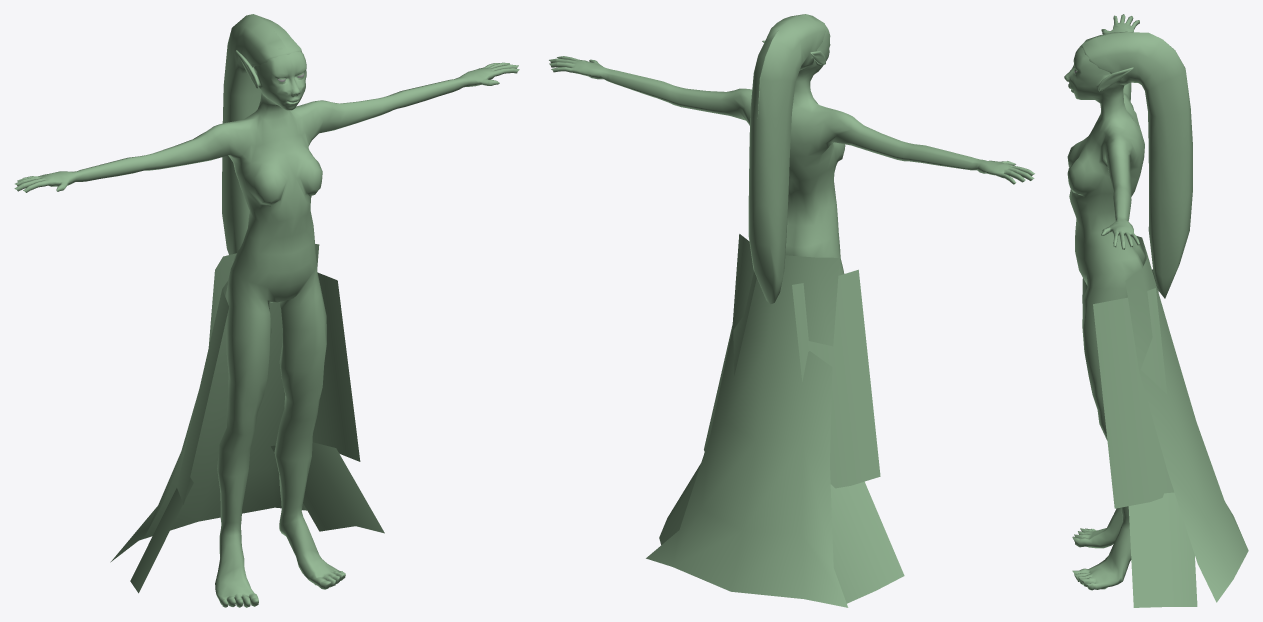
File: shaman_export.fbx
3 renders of one model, left to right at view 1: azimuth 30°, elevation 25°; view 2: azimuth 150°, elevation 25°; view 3: azimuth 270°, elevation 25°, orthographic. The views are drawn at different scales.
Parts seen in each view (by area): view 1: shaman:polySurface21, shaman:polySurface18, shaman:polySurface17, shaman:polySurface16, shaman:polySurface19, shaman:polySurface20; view 2: shaman:polySurface18, shaman:polySurface21, shaman:polySurface19, shaman:polySurface20, shaman:polySurface17, shaman:polySurface16; view 3: shaman:polySurface21, shaman:polySurface18, shaman:polySurface17, shaman:polySurface16.
Part boxes in pixels (bbox=[...]): shaman:polySurface21: bbox=[14, 14, 519, 607]; shaman:polySurface18: bbox=[110, 244, 319, 562]; shaman:polySurface17: bbox=[283, 272, 360, 461]; shaman:polySurface16: bbox=[271, 442, 384, 533]; shaman:polySurface19: bbox=[177, 281, 228, 504]; shaman:polySurface20: bbox=[130, 477, 193, 593]; shaman:polySurface18: bbox=[646, 234, 848, 607]; shaman:polySurface21: bbox=[549, 14, 1034, 304]; shaman:polySurface19: bbox=[792, 269, 880, 488]; shaman:polySurface20: bbox=[830, 481, 904, 603]; shaman:polySurface17: bbox=[704, 271, 756, 451]; shaman:polySurface16: bbox=[659, 463, 700, 544]; shaman:polySurface21: bbox=[1064, 14, 1192, 590]; shaman:polySurface18: bbox=[1125, 236, 1248, 602]; shaman:polySurface17: bbox=[1093, 288, 1174, 508]; shaman:polySurface16: bbox=[1128, 492, 1197, 607].
Bounding box in the file's own units: 7.45 × 7.89 × 2.48.
